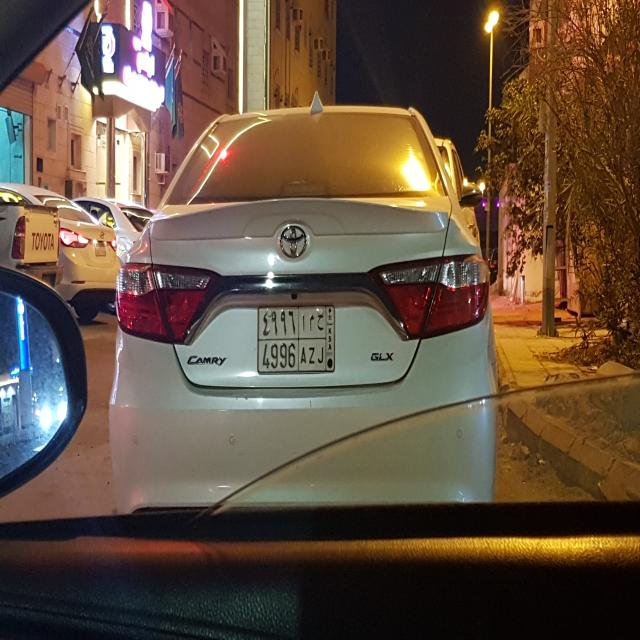license_plate: (256, 303, 336, 376)
